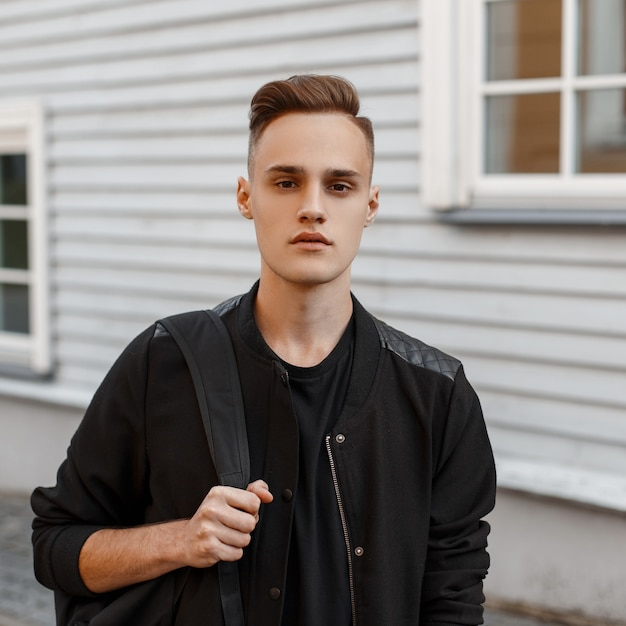teen: (218, 70, 389, 314)
